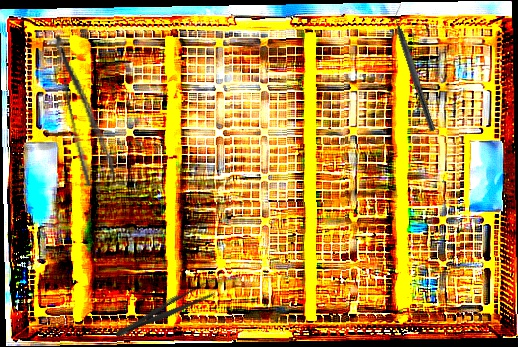Chopper: (386, 2, 445, 133)
Dressing Forceps: (51, 28, 118, 188), (111, 274, 224, 345)
